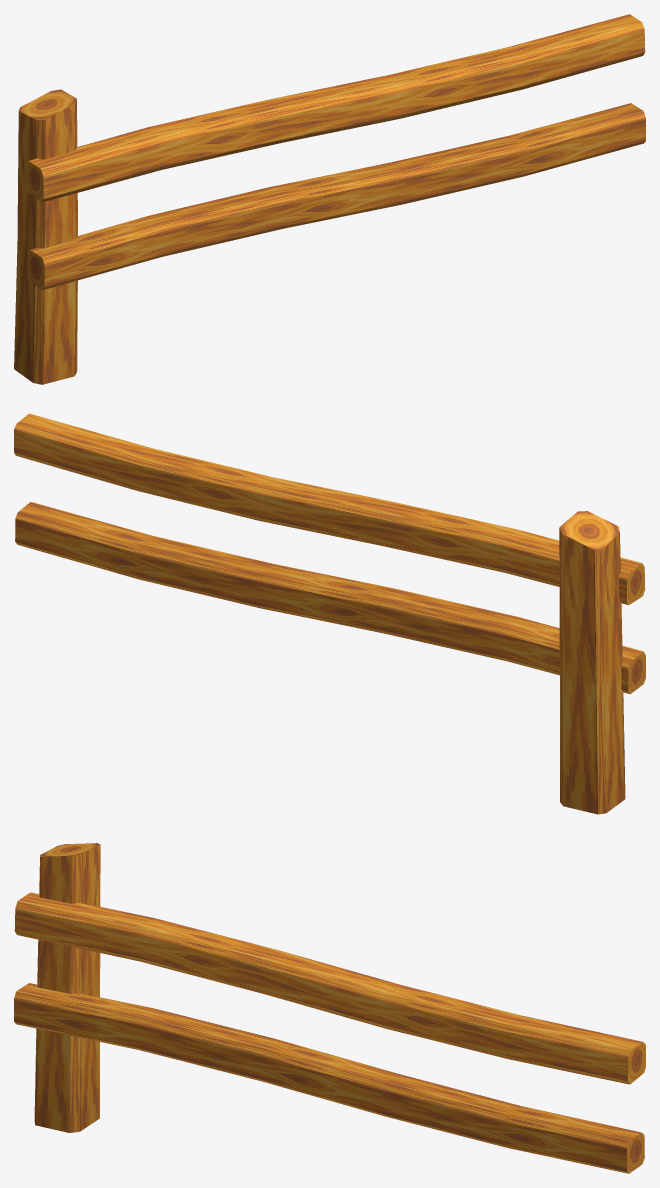
Rendered from fence_w_250.glb.
3 views of the same model, one above another, from view 1: azimuth 30°, elevation 25°; view 2: azimuth 150°, elevation 25°; view 3: azimuth 330°, elevation 25° (orthographic).
Visible parts, largest first — view 1: fence_w_250; view 2: fence_w_250; view 3: fence_w_250.
Boxes of the visible parts, x1,y1,x2,y2 form: fence_w_250: (14, 14, 645, 384); fence_w_250: (14, 413, 645, 814); fence_w_250: (14, 843, 645, 1173).
Size of the model in its own units: 2.74 by 1.19 by 0.3018.
1 material, 1 textured.
